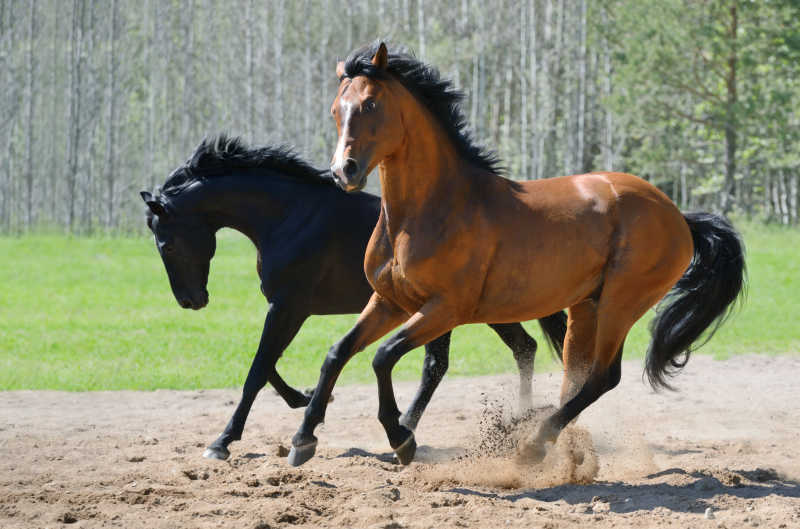horse: (302, 39, 748, 482), (140, 131, 583, 472)
